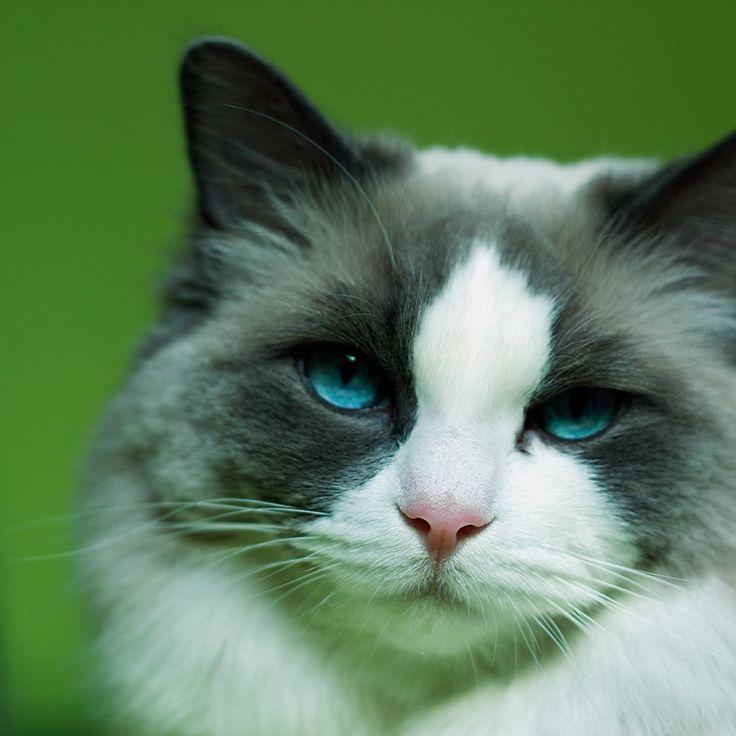ragdoll: (169, 28, 736, 671)
